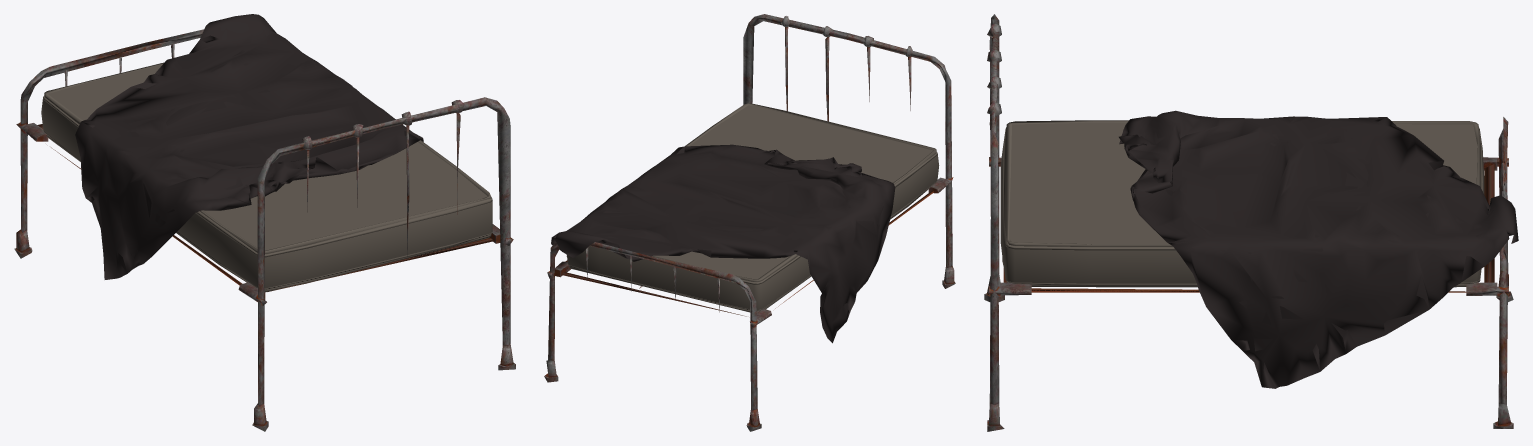
Rendered from hosp-bed-old.lod0.glb.
3 renders of one model, left to right at view 1: azimuth 30°, elevation 25°; view 2: azimuth 150°, elevation 25°; view 3: azimuth 270°, elevation 25°, orthographic. The views are drawn at different scales.
Visible parts, largest first — view 1: mattress_mattress_0, bed_bed_0; view 2: mattress_mattress_0, bed_bed_0; view 3: mattress_mattress_0, bed_bed_0.
Part boxes in pixels (<box>): mattress_mattress_0: <box>41,14,492,291</box>; bed_bed_0: <box>14,29,515,431</box>; mattress_mattress_0: <box>551,103,939,343</box>; bed_bed_0: <box>544,14,955,431</box>; mattress_mattress_0: <box>1000,110,1518,388</box>; bed_bed_0: <box>984,14,1513,431</box>.
Bounding box in the file's own units: 1.4 × 1.37 × 2.2.
Materials: 2 (1 with a texture image).
